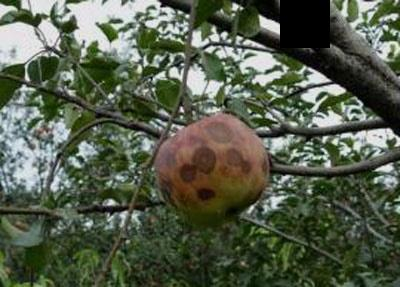rotten apple: (155, 113, 263, 212)
